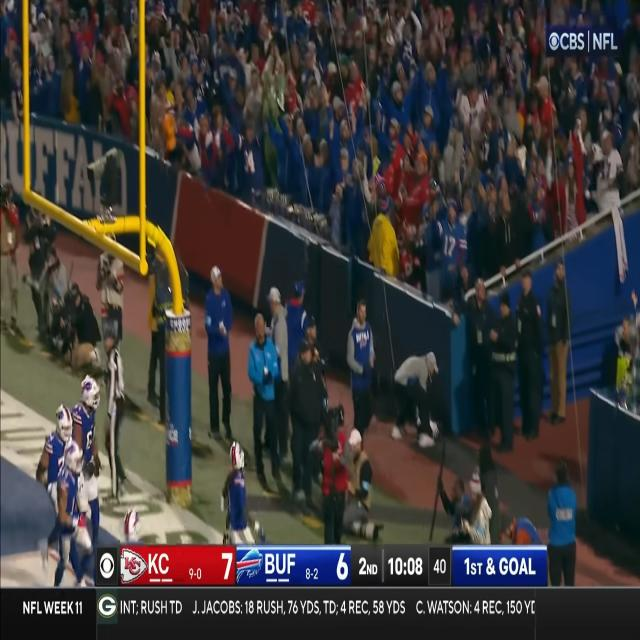Player: (76, 374, 102, 534), (59, 444, 84, 584), (223, 439, 255, 544), (43, 398, 70, 510)
Referee: (103, 329, 126, 500)
